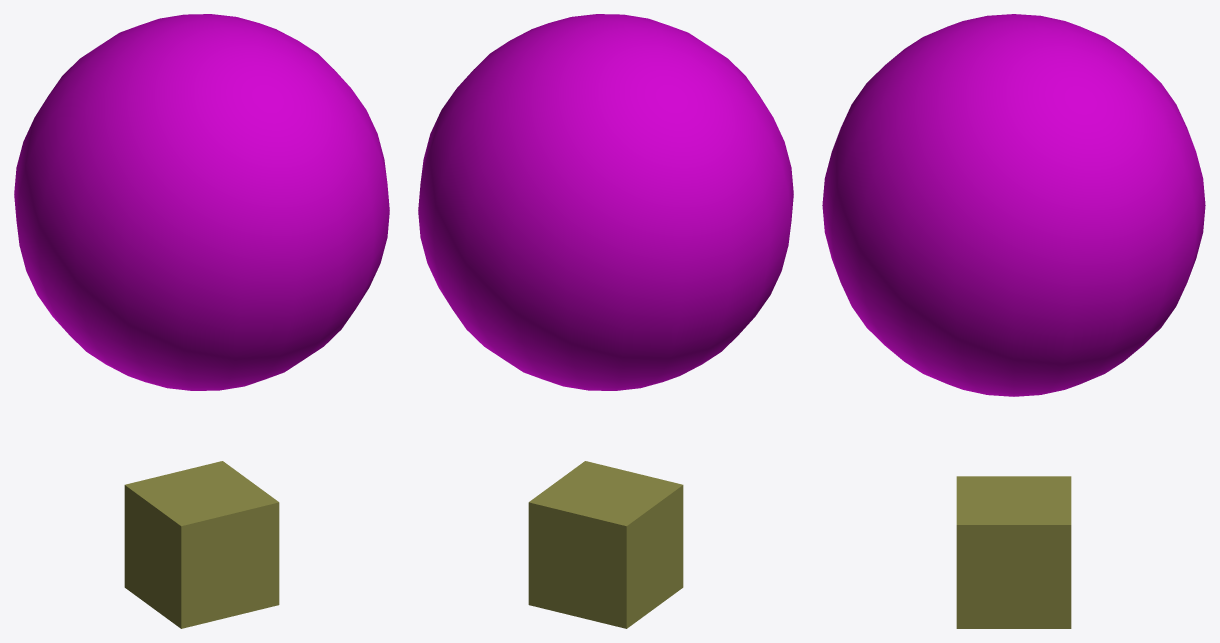
Rendered from Balloon.fbx.
3 views of the same model, side by side, from view 1: azimuth 30°, elevation 25°; view 2: azimuth 150°, elevation 25°; view 3: azimuth 270°, elevation 25° (orthographic).
Parts seen in each view (by area): view 1: pSphere1, pCube1; view 2: pSphere1, pCube1; view 3: pSphere1, pCube1.
Boxes of the visible parts, box(x1,y1,x2,y2) form: pSphere1: box(14, 14, 389, 390); pCube1: box(124, 461, 279, 628); pSphere1: box(418, 14, 793, 390); pCube1: box(528, 461, 683, 628); pSphere1: box(822, 14, 1205, 396); pCube1: box(956, 476, 1071, 628).
Size of the model in its own units: 1 by 1 by 1.65.
